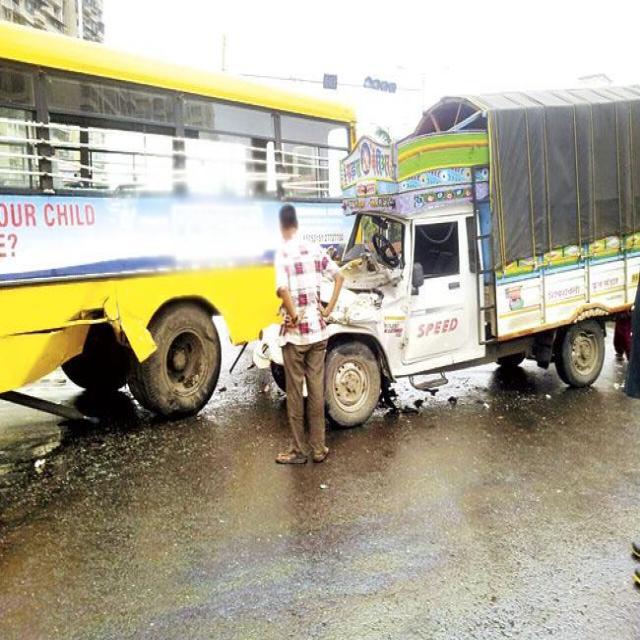accident: (0, 22, 355, 418), (325, 87, 640, 426)
